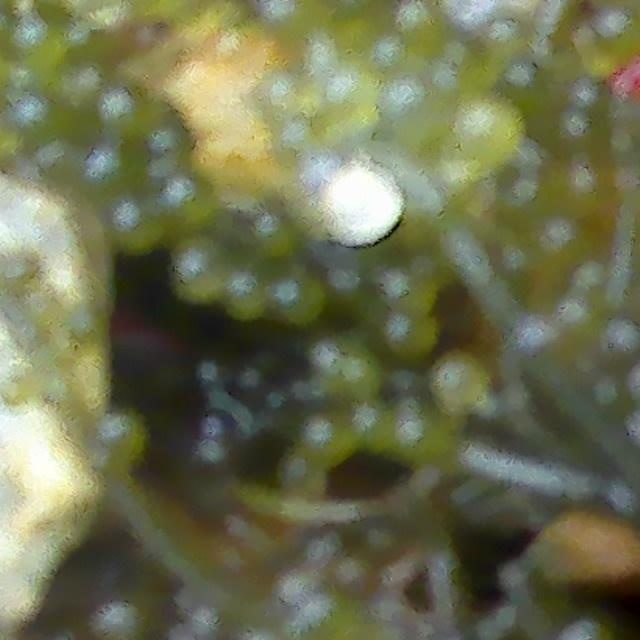SeaGrape: (320, 63, 380, 130), (168, 241, 225, 301), (161, 173, 217, 231), (85, 142, 138, 198), (6, 93, 61, 138), (106, 86, 154, 137), (15, 18, 61, 68), (112, 200, 158, 248)
